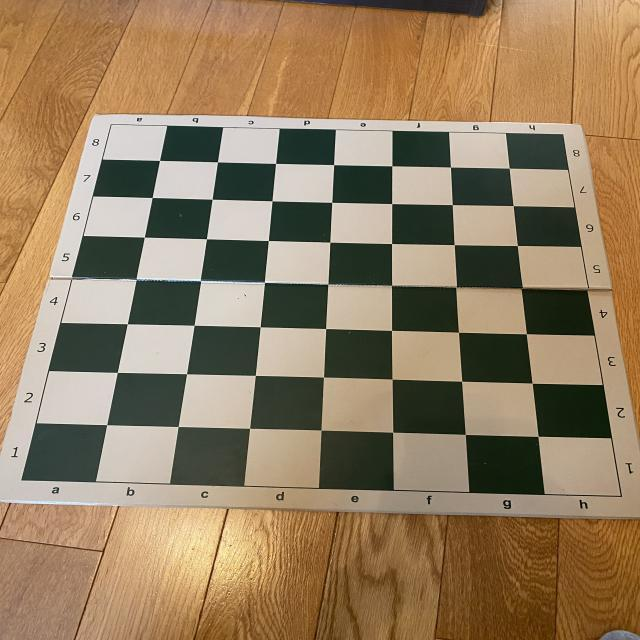chess-table-corners: (610, 489, 633, 502), (10, 474, 30, 486), (104, 121, 122, 132), (556, 132, 570, 142)
